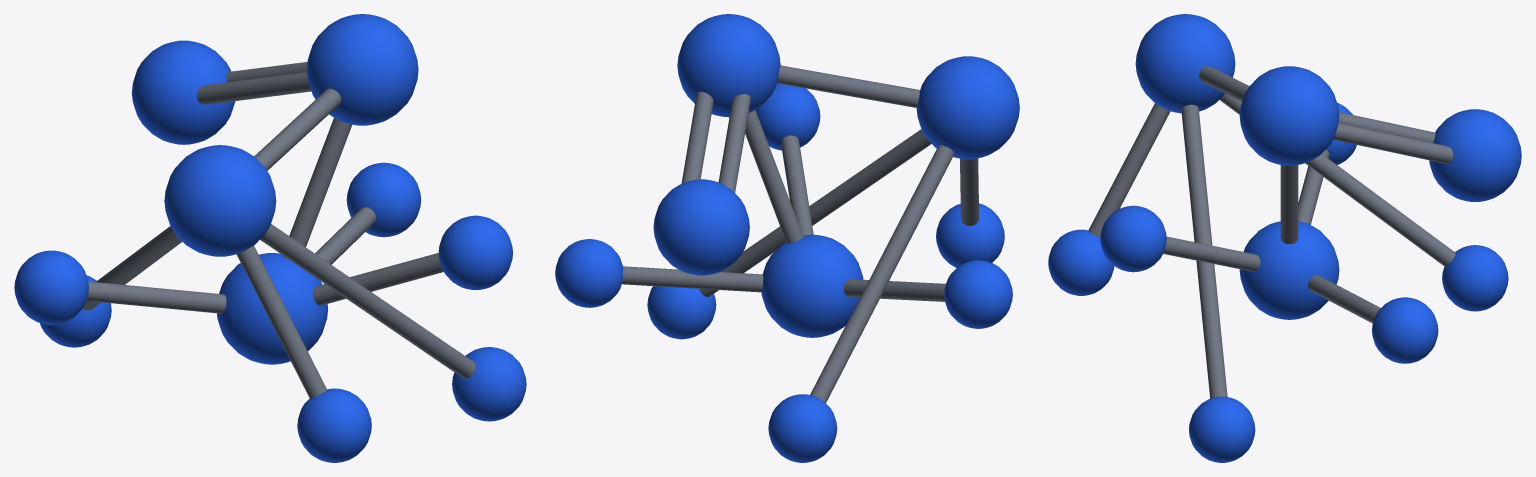
3 views of the same model, side by side, from view 1: azimuth 30°, elevation 25°; view 2: azimuth 150°, elevation 25°; view 3: azimuth 270°, elevation 25° (orthographic). The views are drawn at different scales.
Parts seen in each view (by area): view 1: C3, C2, O1, C1, object 20, H2, H1, H4, H6, H3, object 18, object 16 (+8 smaller); view 2: C3, C1, C2, O1, object 19, object 20, H2, H5, H3, H4, H1, H6 (+8 smaller); view 3: C2, C3, C1, O1, object 20, H1, H3, H6, H5, object 19, H4, object 18 (+8 smaller).
Part boxes in pixels (bbox=[...]): C3: bbox=[164, 145, 276, 256]; C2: bbox=[306, 14, 418, 125]; O1: bbox=[131, 40, 235, 144]; C1: bbox=[217, 253, 328, 364]; object 20: bbox=[260, 224, 475, 378]; H2: bbox=[14, 250, 88, 324]; H1: bbox=[438, 215, 512, 290]; H4: bbox=[297, 388, 371, 462]; H6: bbox=[452, 347, 526, 421]; H3: bbox=[346, 162, 421, 237]; object 18: bbox=[236, 245, 327, 398]; object 16: bbox=[86, 281, 226, 313]; C3: bbox=[916, 56, 1019, 159]; C1: bbox=[761, 234, 863, 337]; C2: bbox=[677, 14, 780, 117]; O1: bbox=[653, 179, 749, 275]; object 19: bbox=[810, 145, 954, 402]; object 20: bbox=[699, 129, 931, 297]; H2: bbox=[944, 260, 1012, 328]; H5: bbox=[768, 394, 837, 462]; H3: bbox=[555, 239, 623, 307]; H4: bbox=[936, 203, 1004, 267]; H1: bbox=[755, 83, 820, 150]; H6: bbox=[647, 286, 716, 339]; C2: bbox=[1239, 66, 1339, 165]; C3: bbox=[1135, 14, 1235, 113]; C1: bbox=[1239, 221, 1339, 319]; O1: bbox=[1429, 109, 1521, 201]; object 20: bbox=[1181, 104, 1227, 398]; H1: bbox=[1100, 205, 1166, 272]; H3: bbox=[1372, 297, 1438, 363]; H6: bbox=[1189, 396, 1255, 462]; H5: bbox=[1442, 245, 1508, 311]; object 19: bbox=[1219, 94, 1455, 266]; H4: bbox=[1048, 229, 1114, 295]; object 18: bbox=[1088, 103, 1170, 237].
Size of the model in its own units: 0.4124 by 0.3488 by 0.4271.
